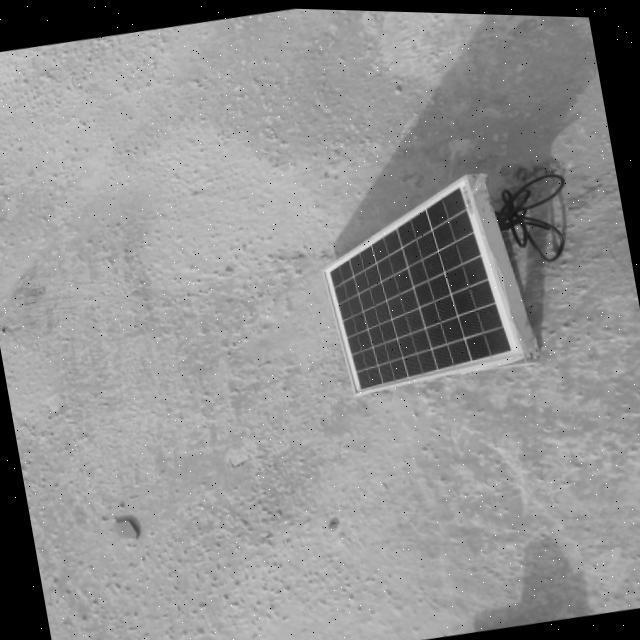Normal Solar Panel: (310, 165, 526, 398)
